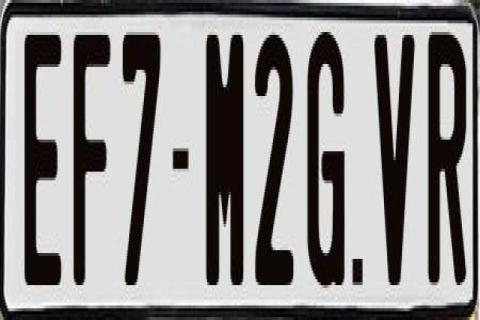0: (255, 29, 292, 294), (123, 29, 161, 279)
E: (22, 35, 59, 285)
F: (72, 35, 116, 303)
G: (306, 24, 344, 288)
M: (205, 29, 243, 288)
R: (426, 23, 466, 291)
V: (374, 35, 418, 285)
